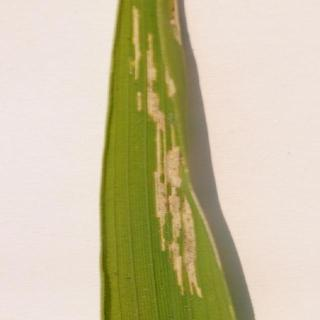Hawar-Daun: (129, 5, 211, 310)
